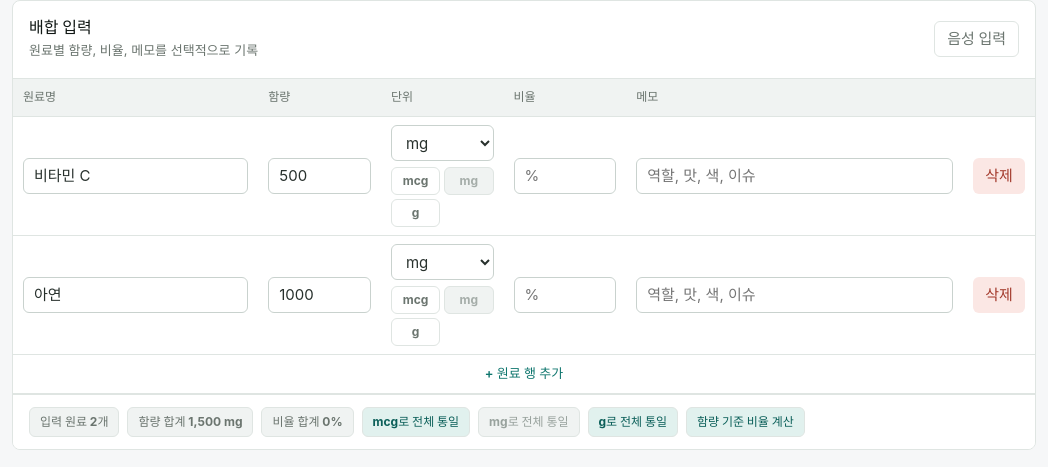
it: FormulaInputTable › calculates ratios from same-unit amounts
Click the button "함량 기준 비율 계산" at (745, 422), box [686,407,805,437]
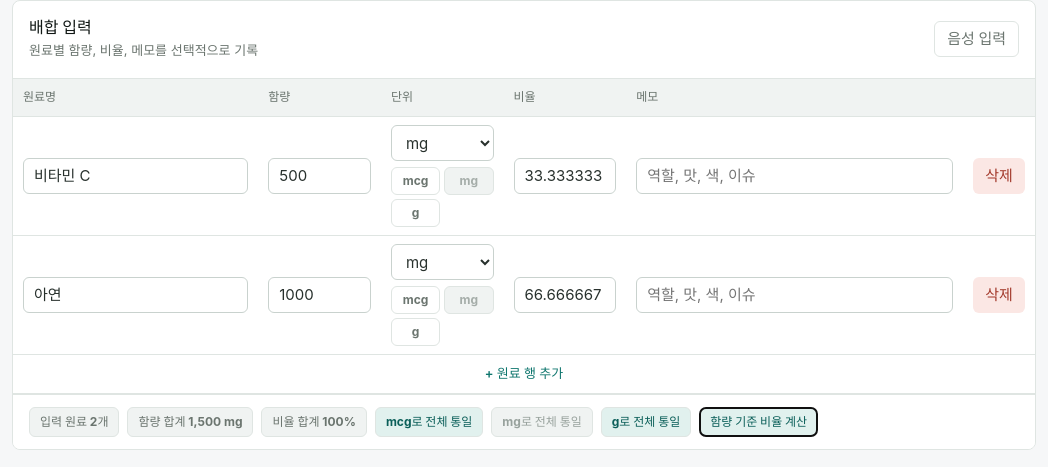
expect the 3rd field named "비율 1" holds "33.333333": met, box [514,158,616,194]
expect the 6th field named "비율 2" holds "66.666667": met, box [514,277,616,313]
expect the text "비율 합계 100%" is shown: met, box [262,407,367,437]
